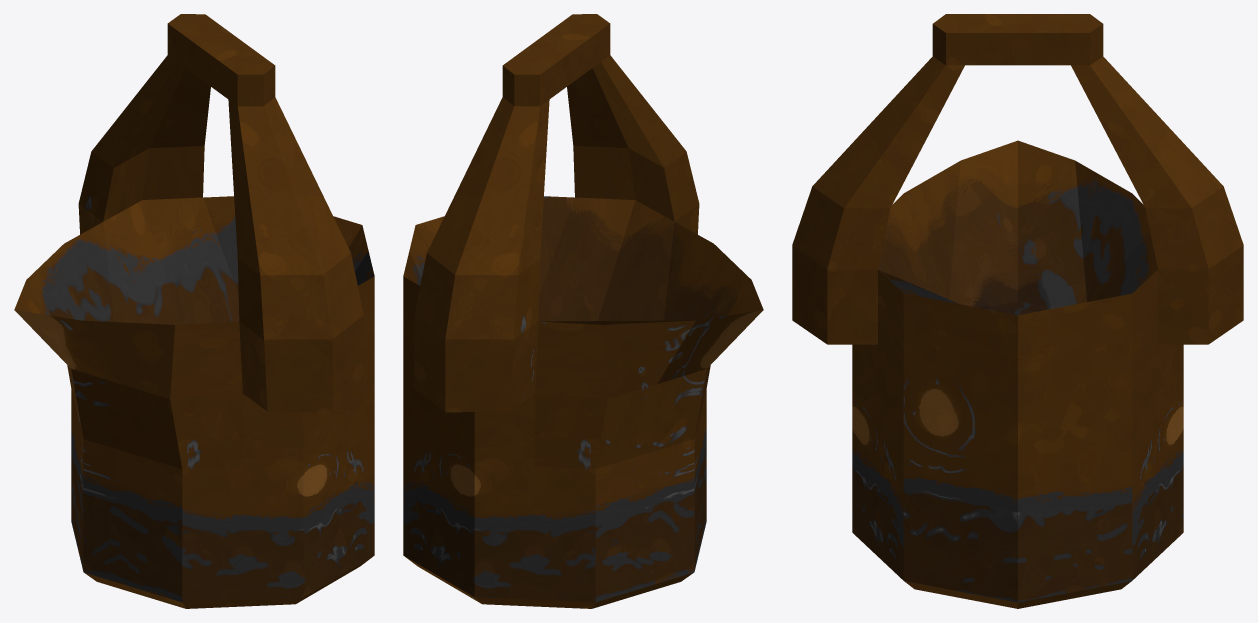
File: bucket.fbx
The picture shows the model from 3 angles, left to right: view 1: azimuth 30°, elevation 25°; view 2: azimuth 150°, elevation 25°; view 3: azimuth 270°, elevation 25°; orthographic projection. The views are drawn at different scales.
Parts seen in each view (by area): view 1: Cube.004; view 2: Cube.004; view 3: Cube.004.
Part boxes in pixels (x1,y1,x2,y2): Cube.004: (14, 14, 374, 608); Cube.004: (403, 14, 763, 608); Cube.004: (792, 14, 1243, 608).
Size of the model in its own units: 404 by 562 by 441.
1 material, 1 textured.
